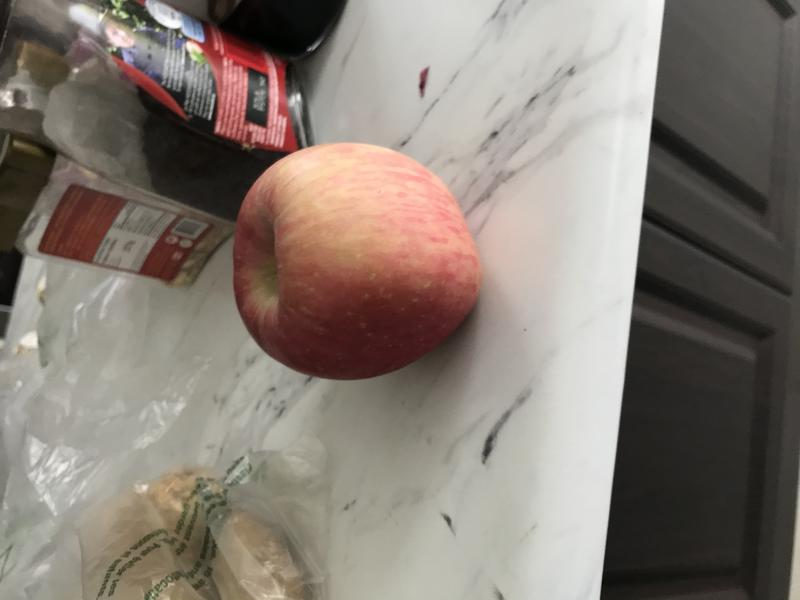red_apple: (214, 131, 488, 387)
